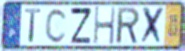C: (44, 7, 69, 44)
H: (93, 6, 116, 46)
R: (117, 6, 141, 45)
T: (24, 8, 43, 44)
X: (139, 6, 166, 46)
Z: (70, 7, 92, 45)
